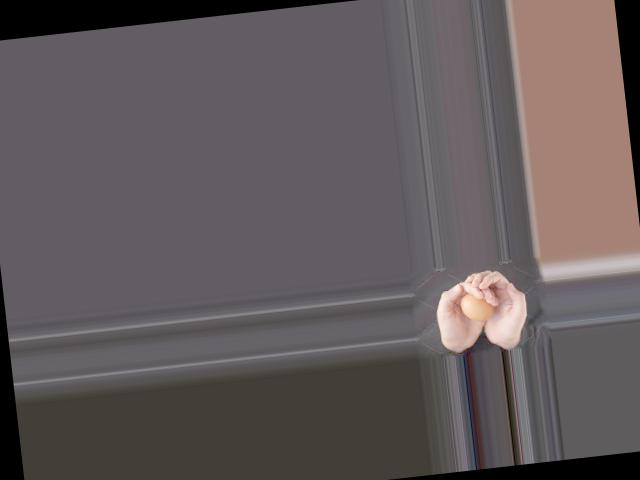egg: (460, 291, 496, 323)
